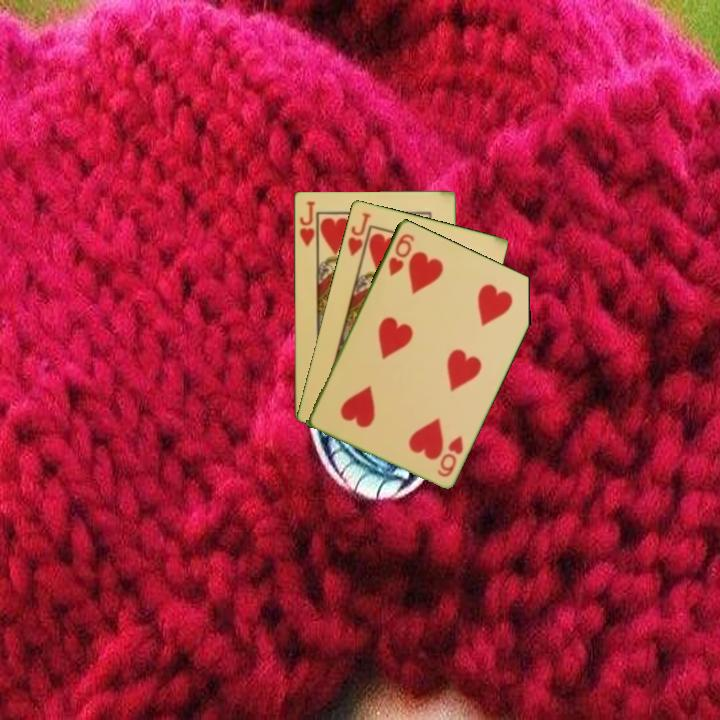6h: (385, 229, 417, 279), (433, 432, 466, 480)
Jh: (344, 209, 374, 258), (296, 197, 317, 249)
